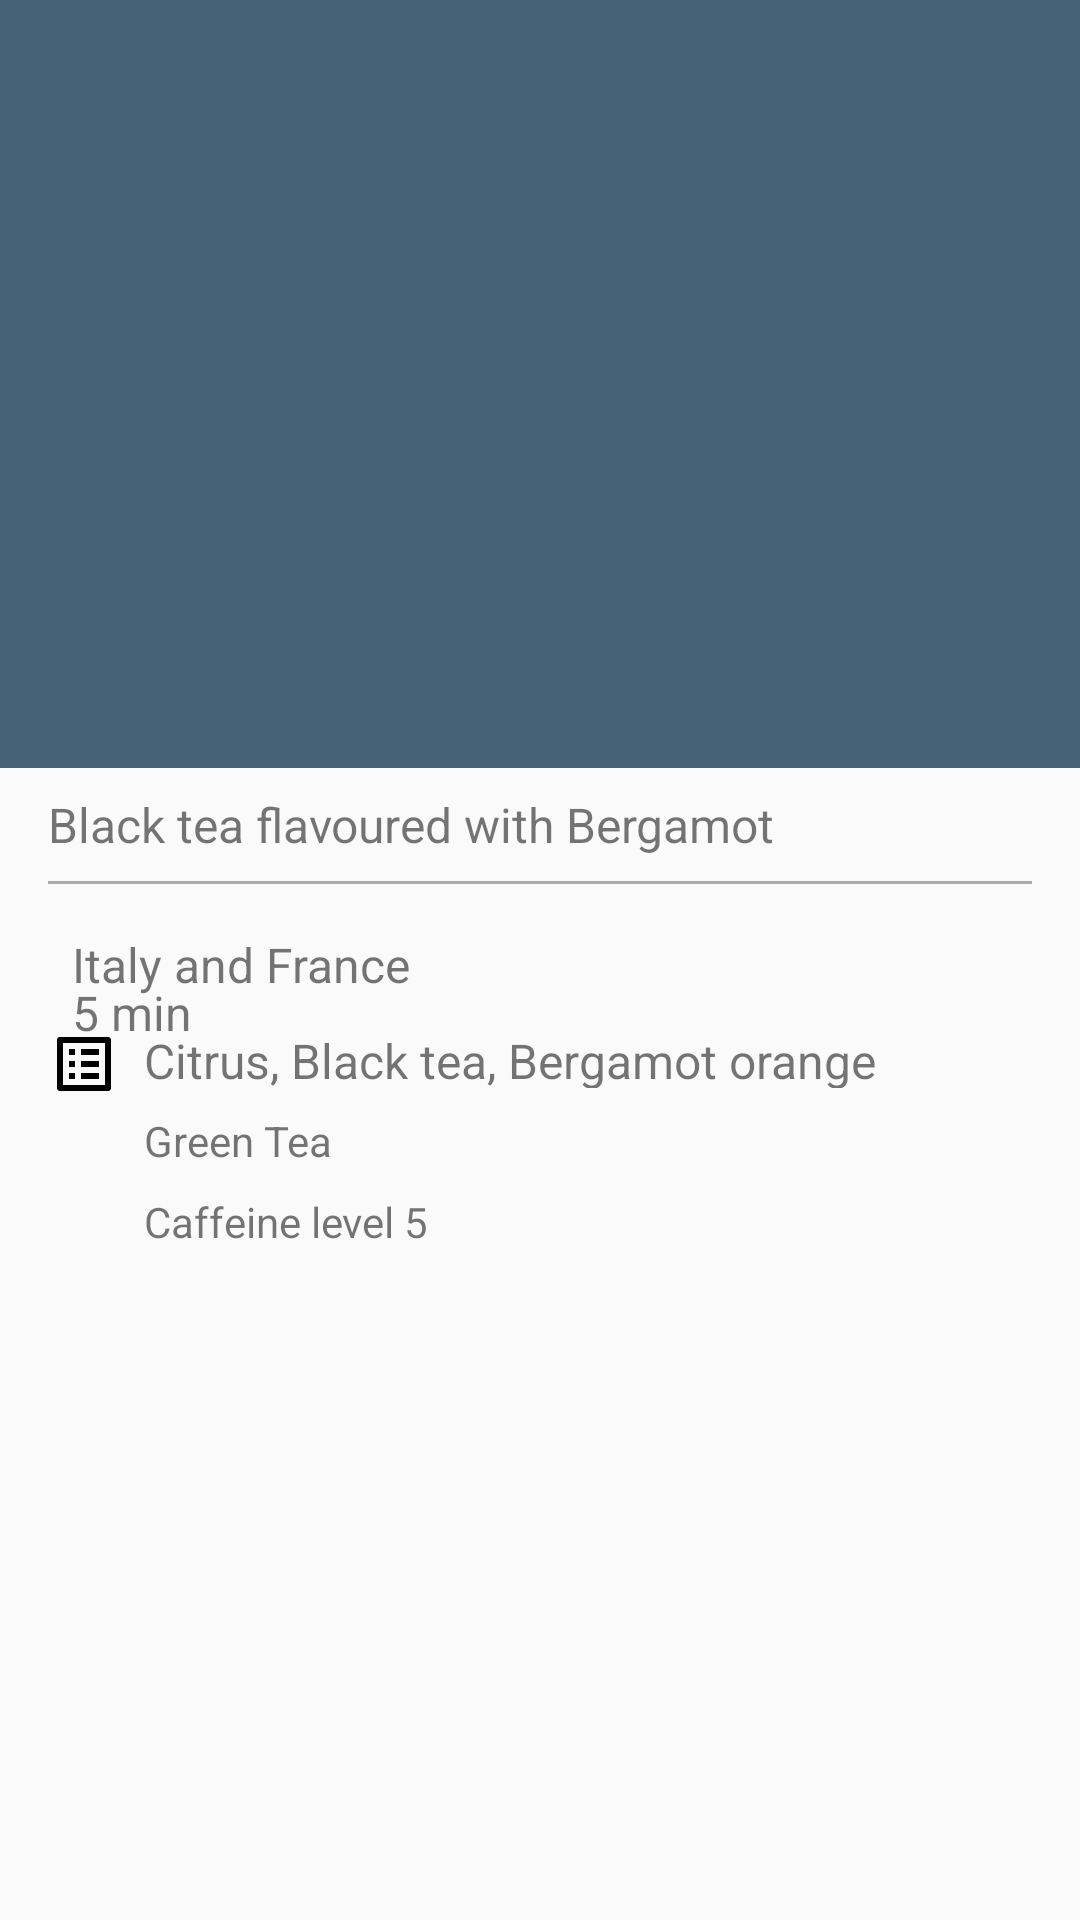

Icons on this 1080x1920 Android screen, each with the point to tap as [x,y]:
list: [84,1064]
